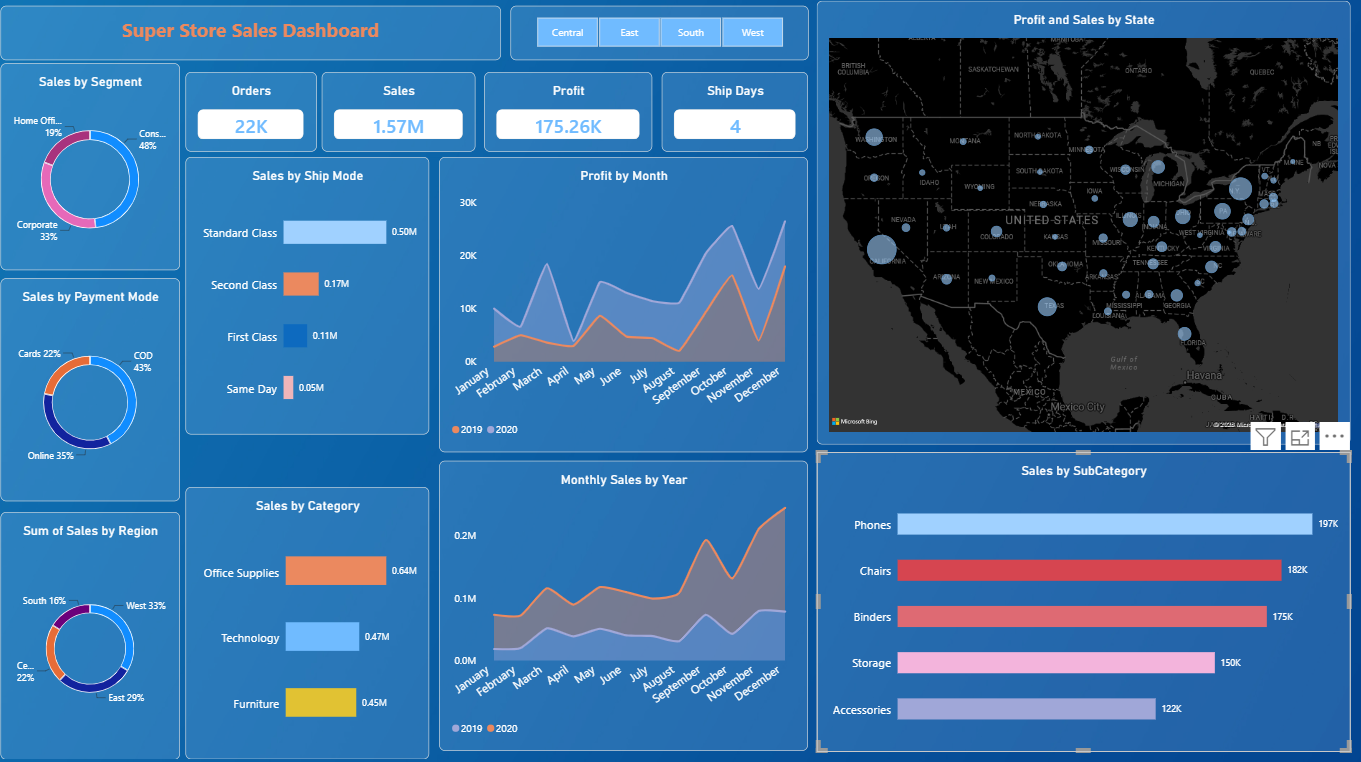

Layout of this report page (visuals, bound fields, positions):
{"tool":"powerbi","page":{"name":"Page 1","canvas":[1920,1080],"ordinal":0},"visuals":[{"type":"clusteredBarChart","title":"Sales by Category","fields":{"Category":["SuperStore Sales DataSet.Category"],"Y":["Sum(SuperStore Sales DataSet.Sales)"]},"box":[268.6,683.7,340.1,380.2],"z":0},{"type":"clusteredBarChart","title":"Sales by SubCategory","fields":{"Y":["Sum(SuperStore Sales DataSet.Sales)"],"Category":["SuperStore Sales DataSet.Sub-Category"]},"box":[1149.4,634.9,744.8,418.6],"z":1000},{"type":"clusteredBarChart","title":"Sales by Ship Mode","fields":{"Y":["Sum(SuperStore Sales DataSet.Sales)"],"Category":["SuperStore Sales DataSet.Ship Mode"]},"box":[268.6,223.3,340.1,387.2],"z":2000},{"type":"stackedAreaChart","title":"Monthly Sales by Year","fields":{"Y":["Sum(SuperStore Sales DataSet.Sales)"],"Category":["SuperStore Sales DataSet.Order Date.Variation.Date Hierarchy.Month","SuperStore Sales DataSet.Order Date.Variation.Date Hierarchy.Day"],"Series":["SuperStore Sales DataSet.Order Date.Variation.Date Hierarchy.Year"]},"box":[622.7,647.1,514.5,404.7],"z":3000},{"type":"stackedAreaChart","title":"Profit by Month","fields":{"Category":["SuperStore Sales DataSet.Order Date.Variation.Date Hierarchy.Month","SuperStore Sales DataSet.Order Date.Variation.Date Hierarchy.Day"],"Series":["SuperStore Sales DataSet.Order Date.Variation.Date Hierarchy.Year"],"Y":["Sum(SuperStore Sales DataSet.Profit)"]},"box":[622.7,223.3,514.5,411.6],"z":4000},{"type":"map","title":"Profit and Sales by State","fields":{"Category":["SuperStore Sales DataSet.State"],"Size":["Sum(SuperStore Sales DataSet.Sales)"]},"box":[1149.4,5.2,744.8,619.2],"z":5000},{"type":"donutChart","title":"Sales by Segment","fields":{"Category":["SuperStore Sales DataSet.Segment"],"Y":["Sum(SuperStore Sales DataSet.Sales)"]},"box":[10,92.9,250,288.6],"z":6000},{"type":"donutChart","title":"Sales by Payment Mode","fields":{"Category":["SuperStore Sales DataSet.Payment Mode"],"Y":["Sum(SuperStore Sales DataSet.Sales)"]},"box":[10,392.9,250,311.4],"z":7000},{"type":"slicer","fields":{"Values":["SuperStore Sales DataSet.Region"]},"box":[721.4,11.4,415.7,75.7],"z":8000},{"type":"textbox","box":[10,11.4,698.6,75.7],"z":9000},{"type":"cardVisual","title":"Sales","fields":{"Data":["Sum(SuperStore Sales DataSet.Sales)"]},"box":[458.6,104.3,214.3,111.4],"z":10000},{"type":"cardVisual","title":"Orders","fields":{"Data":["Sum(SuperStore Sales DataSet.Quantity)"]},"box":[268.6,104.3,182.9,111.4],"z":11000},{"type":"cardVisual","title":"Profit","fields":{"Data":["Sum(SuperStore Sales DataSet.Profit)"]},"box":[685.7,104.3,234.3,111.4],"z":12000},{"type":"cardVisual","title":"Ship Days","fields":{"Data":["Median(SuperStore Sales DataSet.AvgDelivery)"]},"box":[932.9,104.3,204.3,111.4],"z":13000},{"type":"donutChart","fields":{"Category":["SuperStore Sales DataSet.Region"],"Y":["Sum(SuperStore Sales DataSet.Sales)"]},"box":[10,718.6,250,345.7],"z":14000}]}

Visuals, with their boxes in screenshot pixels (x1, y1, x2, y2), scaled from the page's 1920x1080 canvas onto the 1361x762 screenshot:
"Sales by Category" clusteredBarChart: bbox=[190, 482, 431, 751]
"Sales by SubCategory" clusteredBarChart: bbox=[815, 448, 1343, 743]
"Sales by Ship Mode" clusteredBarChart: bbox=[190, 158, 431, 431]
"Monthly Sales by Year" stackedAreaChart: bbox=[441, 457, 806, 742]
"Profit by Month" stackedAreaChart: bbox=[441, 158, 806, 448]
"Profit and Sales by State" map: bbox=[815, 4, 1343, 441]
"Sales by Segment" donutChart: bbox=[7, 66, 184, 269]
"Sales by Payment Mode" donutChart: bbox=[7, 277, 184, 497]
slicer - SuperStore Sales DataSet.Region: bbox=[511, 8, 806, 61]
textbox: bbox=[7, 8, 502, 61]
"Sales" cardVisual: bbox=[325, 74, 477, 152]
"Orders" cardVisual: bbox=[190, 74, 320, 152]
"Profit" cardVisual: bbox=[486, 74, 652, 152]
"Ship Days" cardVisual: bbox=[661, 74, 806, 152]
donutChart - SuperStore Sales DataSet.Region x Sum(SuperStore Sales DataSet.Sales): bbox=[7, 507, 184, 751]
